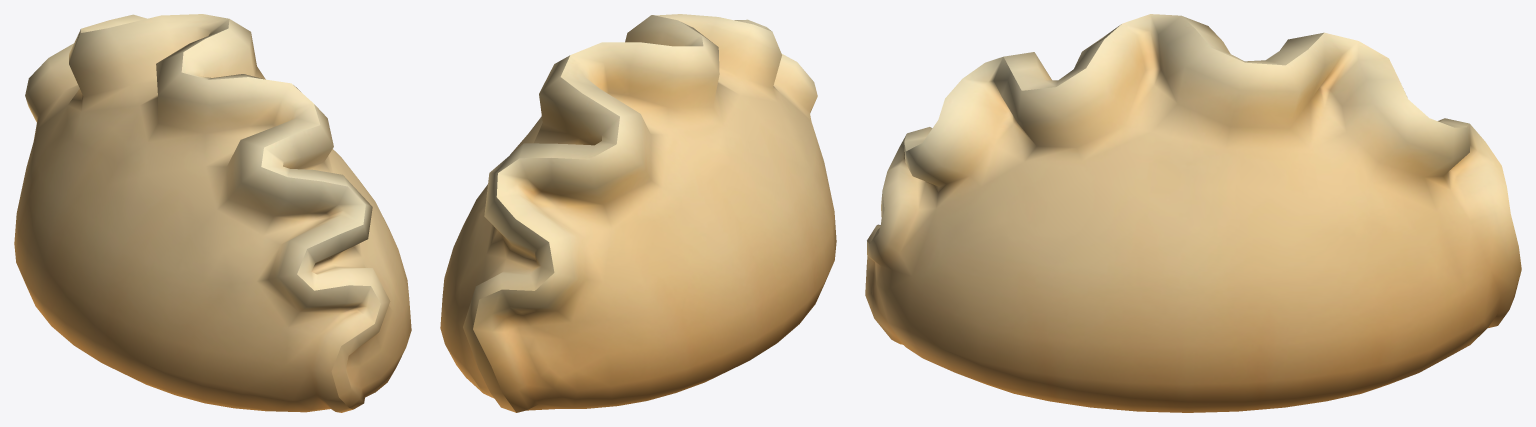
Rendered from Gyoza_1.fbx.
The picture shows the model from 3 angles, left to right: view 1: azimuth 30°, elevation 25°; view 2: azimuth 150°, elevation 25°; view 3: azimuth 270°, elevation 25°; orthographic projection. The views are drawn at different scales.
Visible parts, largest first — view 1: Gyoza_1; view 2: Gyoza_1; view 3: Gyoza_1.
Part boxes in pixels (x1,y1,x2,y2): Gyoza_1: [14, 14, 411, 412]; Gyoza_1: [440, 14, 836, 412]; Gyoza_1: [865, 14, 1521, 412].
Bounding box in the file's own units: 22.2 × 21.31 × 38.54.
1 material, 1 textured.
